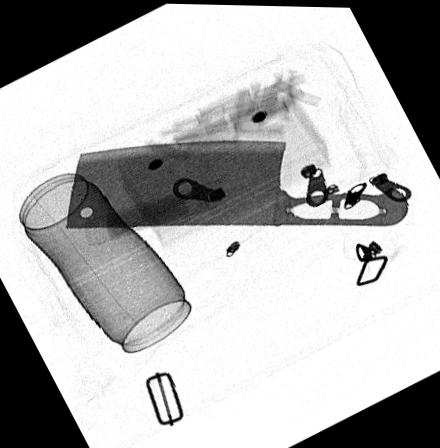Knife: (64, 138, 408, 228)
